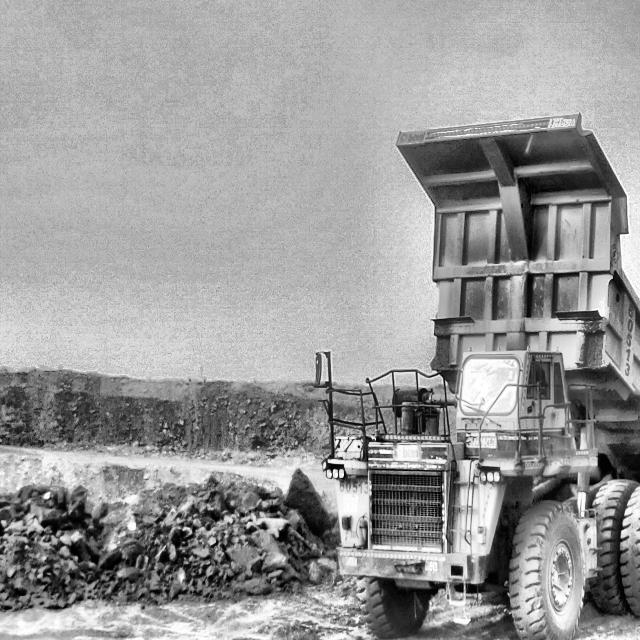dump_truck: (325, 117, 640, 640)
